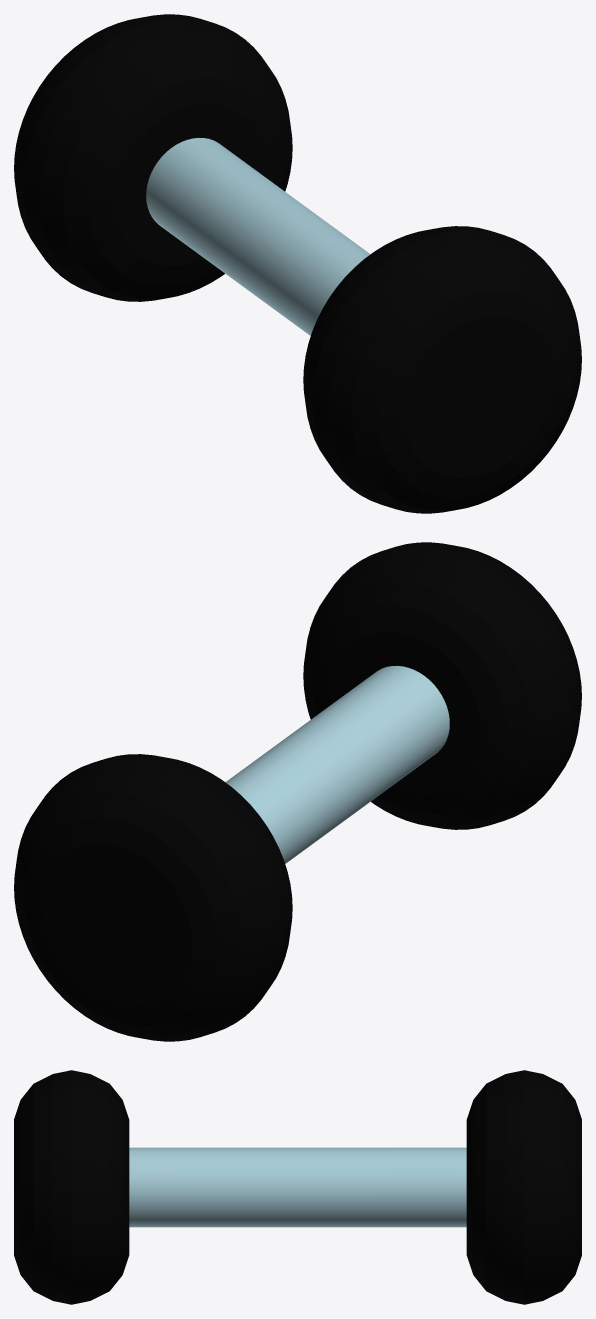
The picture shows the model from 3 angles, top to bottom: view 1: azimuth 30°, elevation 25°; view 2: azimuth 150°, elevation 25°; view 3: azimuth 270°, elevation 25°; orthographic projection. The views are drawn at different scales.
Visible parts, largest first — view 1: weight, weight.001, grip; view 2: weight.001, weight, grip; view 3: grip, weight, weight.001.
Part boxes in pixels (x1,y1,x2,y2): weight: [303, 226, 581, 513]; weight.001: [14, 14, 292, 301]; grip: [146, 137, 370, 335]; weight.001: [14, 754, 292, 1041]; weight: [303, 542, 581, 829]; grip: [225, 665, 449, 863]; grip: [129, 1147, 466, 1227]; weight: [14, 1070, 129, 1304]; weight.001: [466, 1070, 581, 1304].
Bounding box in the file's own units: 0.1447 × 0.1447 × 0.35.
